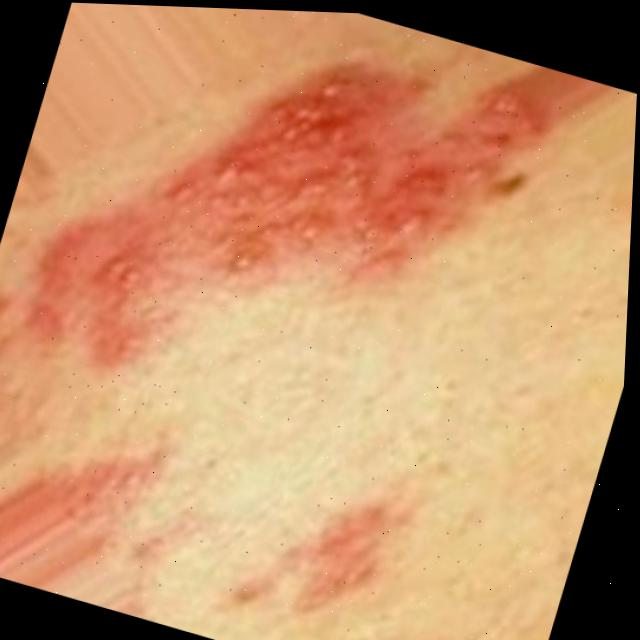Shingles: (147, 6, 552, 331), (278, 486, 407, 623), (65, 438, 166, 551)
